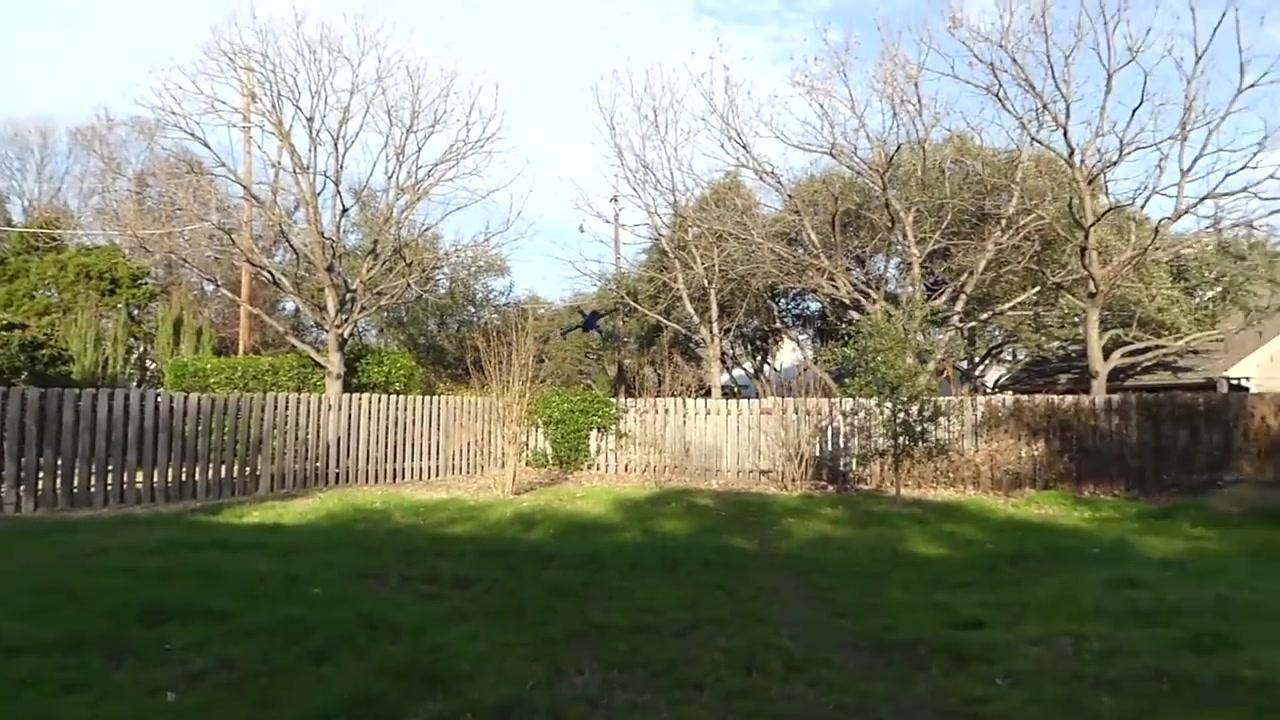UAV: (561, 306, 620, 342)
